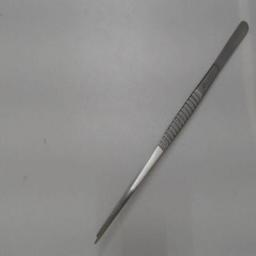DeBakey Dissector: (82, 10, 252, 248)
